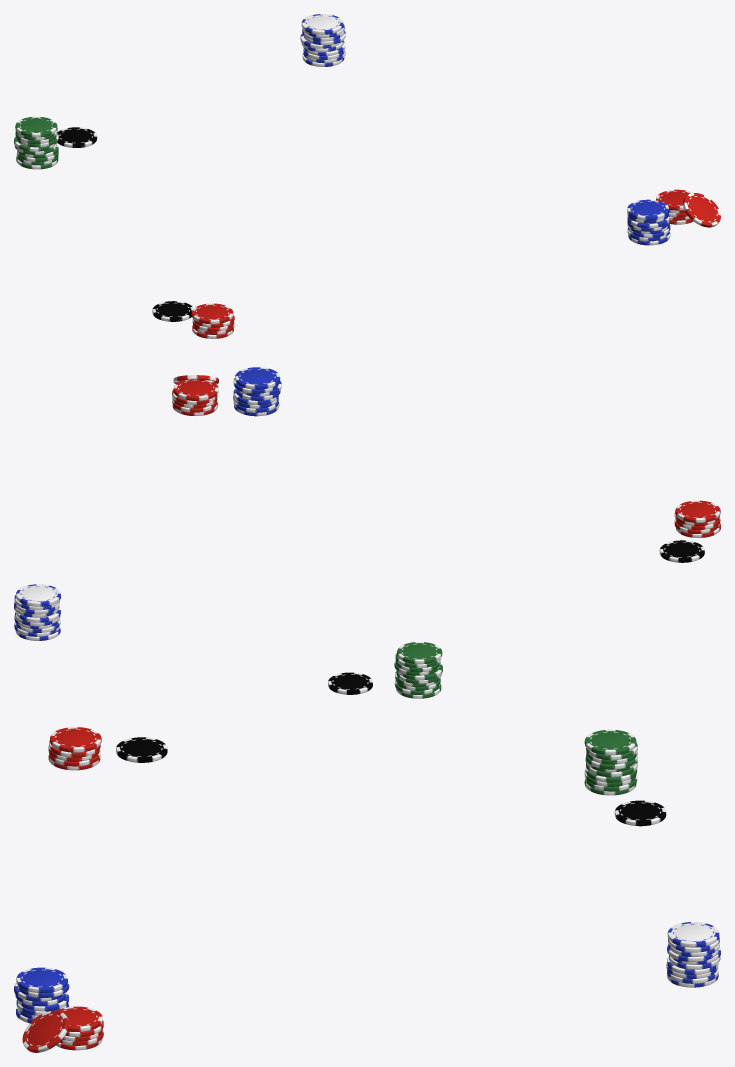
Rendered from TableChips-011.glb.
3 views of the same model, one above another, from view 1: azimuth 30°, elevation 25°; view 2: azimuth 150°, elevation 25°; view 3: azimuth 270°, elevation 25° (orthographic). The views are drawn at different scales.
Parts seen in each view (by area): view 1: TableChips-011; view 2: TableChips-011; view 3: TableChips-011.
Part boxes in pixels (<box>): TableChips-011: <box>14,14,720,338</box>; TableChips-011: <box>14,367,720,698</box>; TableChips-011: <box>14,727,720,1052</box>.
Size of the model in its own units: 5.23 by 0.34 by 4.95.
5 materials, 5 textured.
